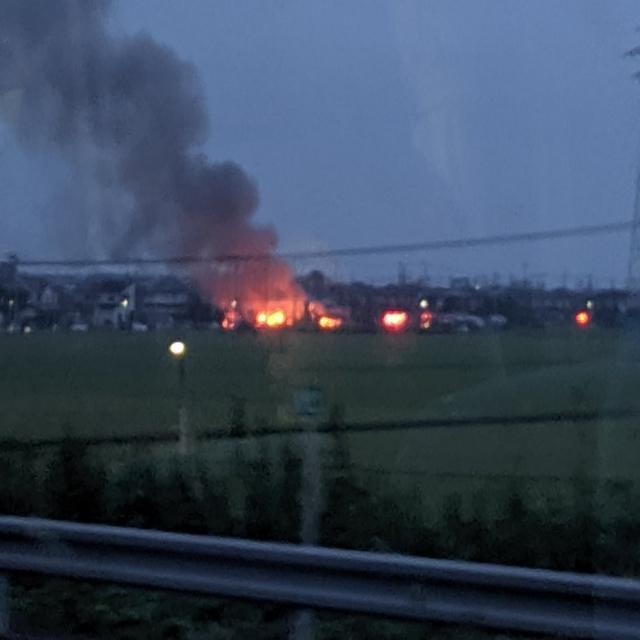Fire: (252, 305, 285, 329), (318, 312, 342, 330)
